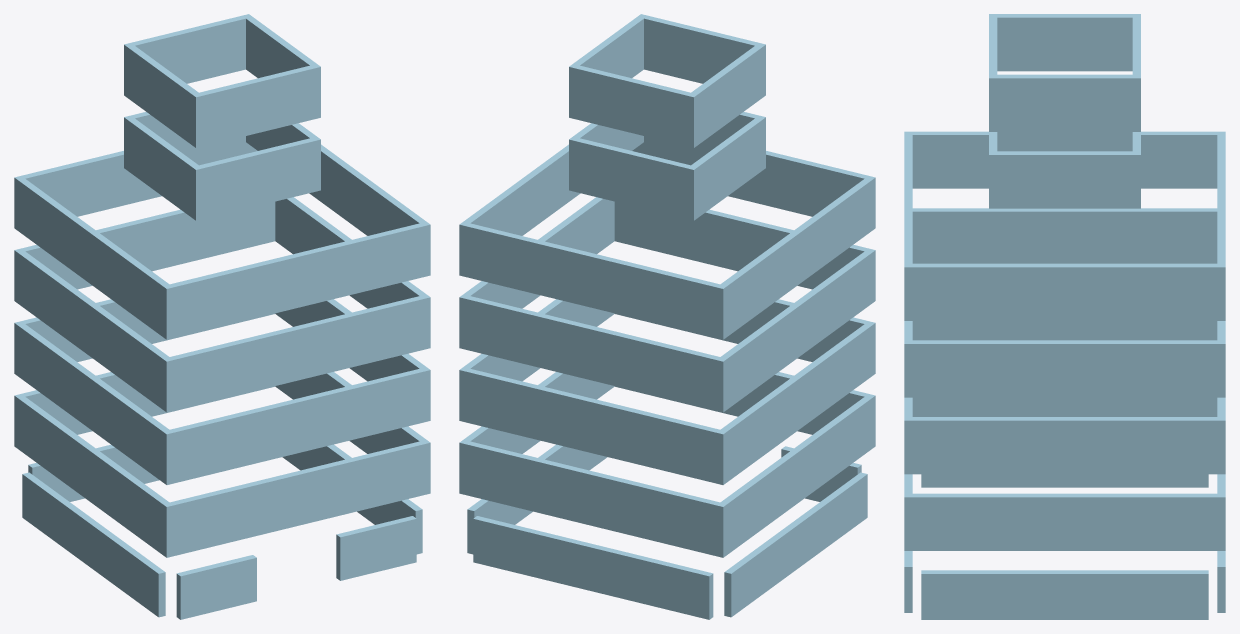
The model's file is building_big_2_reflections.obj.
3 renders of one model, left to right at view 1: azimuth 30°, elevation 25°; view 2: azimuth 150°, elevation 25°; view 3: azimuth 270°, elevation 25°, orthographic. The views are drawn at different scales.
Size of the model in its own units: 3.8 by 6.6 by 3.8.
1 material, 1 textured.
